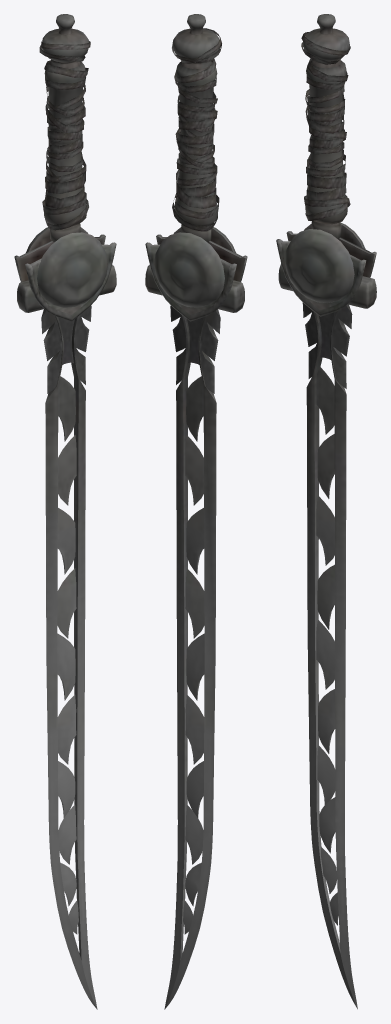
Rendered from weapon-wp_a_0231.glb.
The picture shows the model from 3 angles, left to right: view 1: azimuth 30°, elevation 25°; view 2: azimuth 150°, elevation 25°; view 3: azimuth 330°, elevation 25°; orthographic projection.
Parts seen in each view (by area): view 1: wp_a_0231_mesh; view 2: wp_a_0231_mesh; view 3: wp_a_0231_mesh.
Part boxes in pixels (bbox=[...]): wp_a_0231_mesh: bbox=[14, 14, 116, 1009]; wp_a_0231_mesh: bbox=[145, 14, 247, 1009]; wp_a_0231_mesh: bbox=[276, 14, 376, 1009].
Bounding box in the file's own units: 0.1023 × 1.07 × 0.0555.
Materials: 1 (1 with a texture image).
